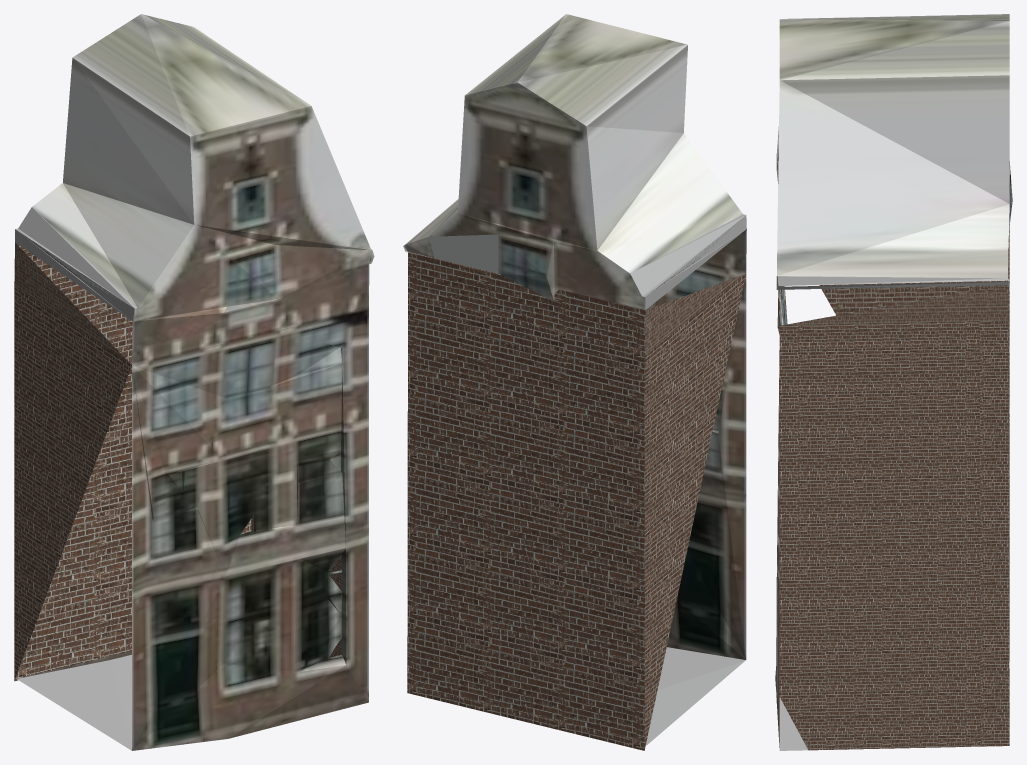
File: sf_townhouse_1_lod.glb
The picture shows the model from 3 angles, left to right: view 1: azimuth 30°, elevation 25°; view 2: azimuth 150°, elevation 25°; view 3: azimuth 270°, elevation 25°; orthographic projection. The views are drawn at different scales.
Visible parts, largest first — view 1: Amsterdam canal house by JJ_House_0, Amsterdam canal house by JJ_Material.001_0; view 2: Amsterdam canal house by JJ_Material.001_0, Amsterdam canal house by JJ_House_0; view 3: Amsterdam canal house by JJ_Material.001_0, Amsterdam canal house by JJ_House_0.
Part boxes in pixels (x1,y1,x2,y2): Amsterdam canal house by JJ_House_0: (15, 14, 374, 750); Amsterdam canal house by JJ_Material.001_0: (14, 242, 341, 681); Amsterdam canal house by JJ_Material.001_0: (407, 252, 745, 750); Amsterdam canal house by JJ_House_0: (403, 14, 746, 745); Amsterdam canal house by JJ_Material.001_0: (779, 228, 1009, 750); Amsterdam canal house by JJ_House_0: (775, 14, 1012, 750).
Bounding box in the file's own units: 5.33 × 12.99 × 4.18.
Materials: 3 (2 with a texture image).
